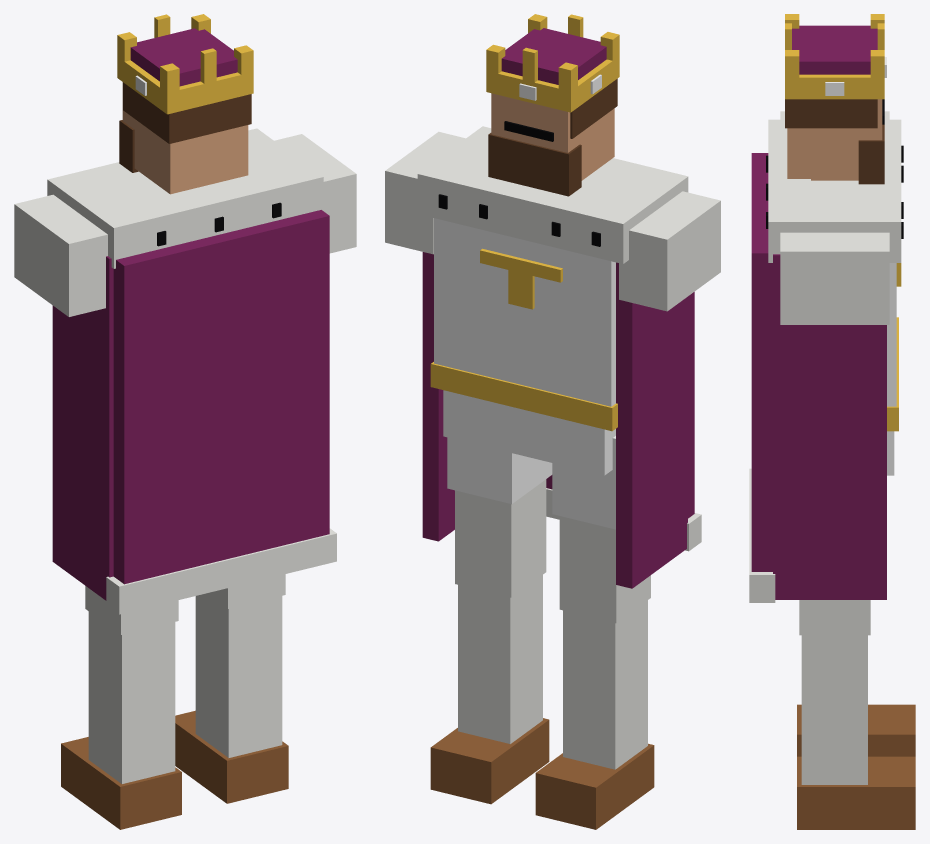
Rendered from KING.gltf.
3 views of the same model, side by side, from view 1: azimuth 30°, elevation 25°; view 2: azimuth 150°, elevation 25°; view 3: azimuth 270°, elevation 25° (orthographic). The views are drawn at different scales.
Parts seen in each view (by area): view 1: KING; view 2: KING; view 3: KING.
Boxes of the visible parts, box(x1,y1,x2,y2) form: KING: box(14, 14, 356, 829); KING: box(385, 14, 720, 829); KING: box(749, 14, 915, 829).
Bounding box in the file's own units: 0.7 × 1.77 × 0.35.
